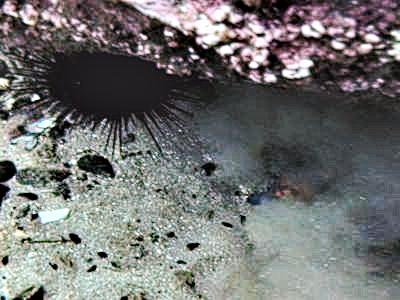urchin: (5, 40, 195, 166)
